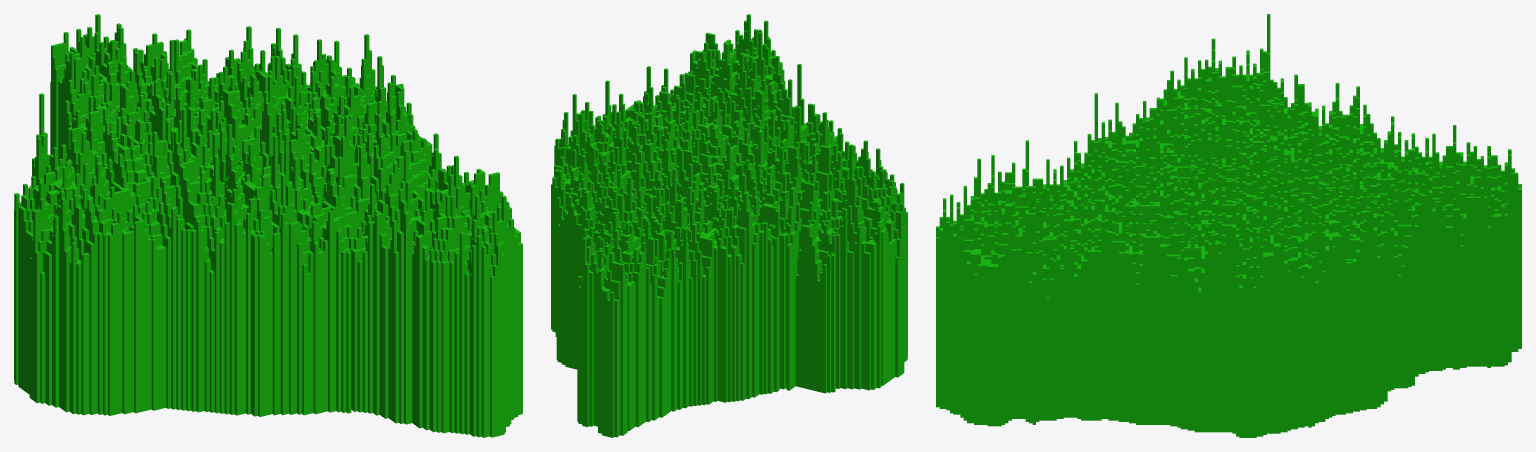
The model's file is terr_den_58.glb.
3 renders of one model, left to right at view 1: azimuth 30°, elevation 25°; view 2: azimuth 150°, elevation 25°; view 3: azimuth 270°, elevation 25°, orthographic. The views are drawn at different scales.
Visible parts, largest first — view 1: pyvista_mesh_save.005; view 2: pyvista_mesh_save.005; view 3: pyvista_mesh_save.005.
Part boxes in pixels (x1=…): pyvista_mesh_save.005: x1=14, y1=14, x2=522, y2=437; pyvista_mesh_save.005: x1=551, y1=14, x2=907, y2=437; pyvista_mesh_save.005: x1=936, y1=14, x2=1521, y2=437.
Bounding box in the file's own units: 2.42 × 1.68 × 3.4.
